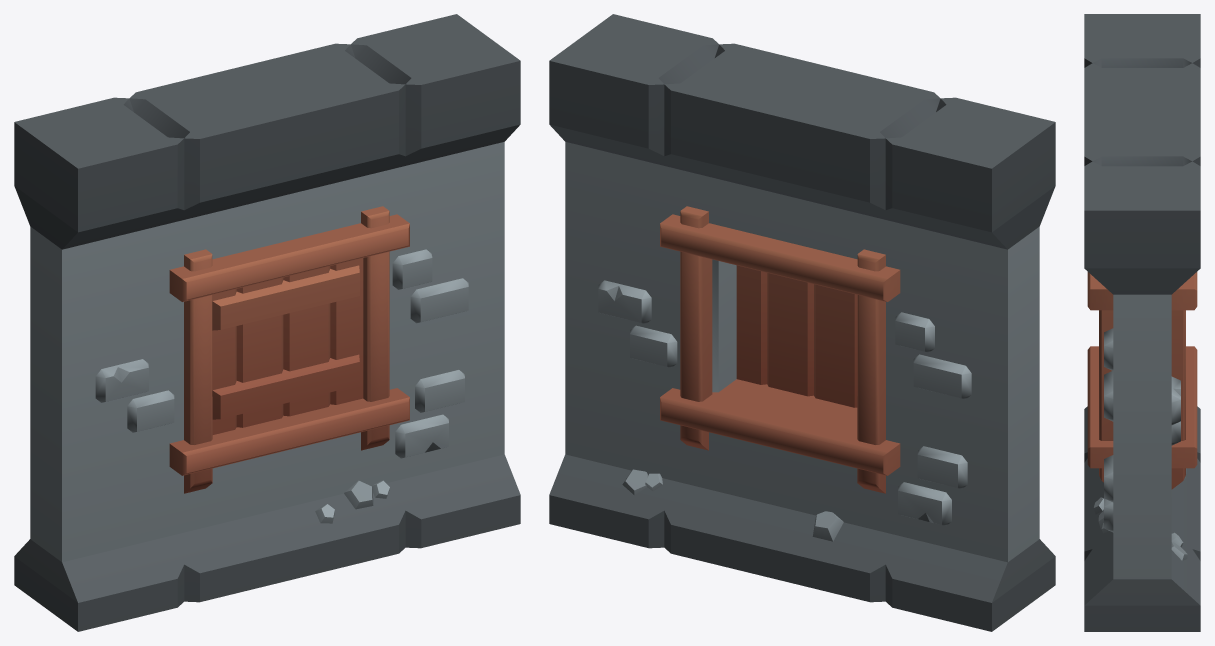
The model's file is wall_window_closed.obj.
The picture shows the model from 3 angles, left to right: view 1: azimuth 30°, elevation 25°; view 2: azimuth 150°, elevation 25°; view 3: azimuth 270°, elevation 25°; orthographic projection. The views are drawn at different scales.
Parts seen in each view (by area): view 1: wall_window_closed; view 2: wall_window_closed; view 3: wall_window_closed.
Boxes of the visible parts, box(x1,y1,x2,y2) form: wall_window_closed: box(14, 14, 520, 631); wall_window_closed: box(549, 14, 1055, 631); wall_window_closed: box(1084, 14, 1200, 631).
Size of the model in its own units: 4 by 4 by 1.
Materials: 1 (1 with a texture image).
